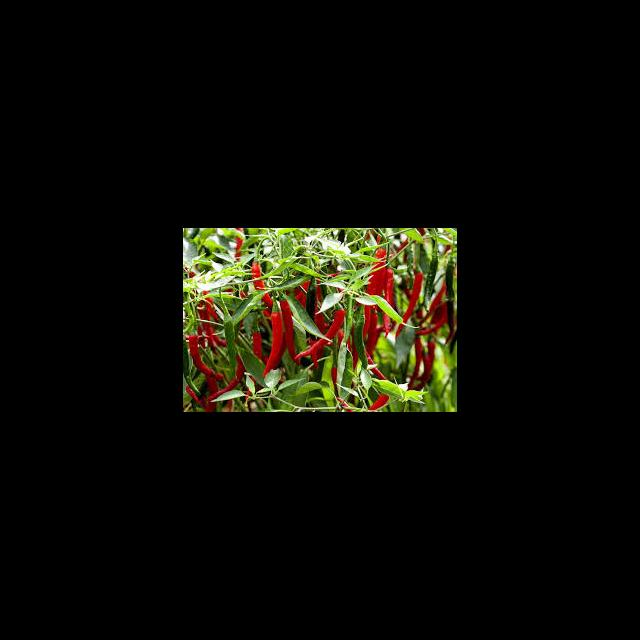chili_pepper: (293, 306, 345, 360), (364, 247, 386, 338), (396, 272, 426, 338), (189, 336, 225, 381), (262, 313, 286, 379), (280, 296, 299, 367), (251, 260, 272, 308), (224, 315, 238, 379), (353, 312, 368, 369), (305, 280, 317, 342), (383, 268, 394, 334)
